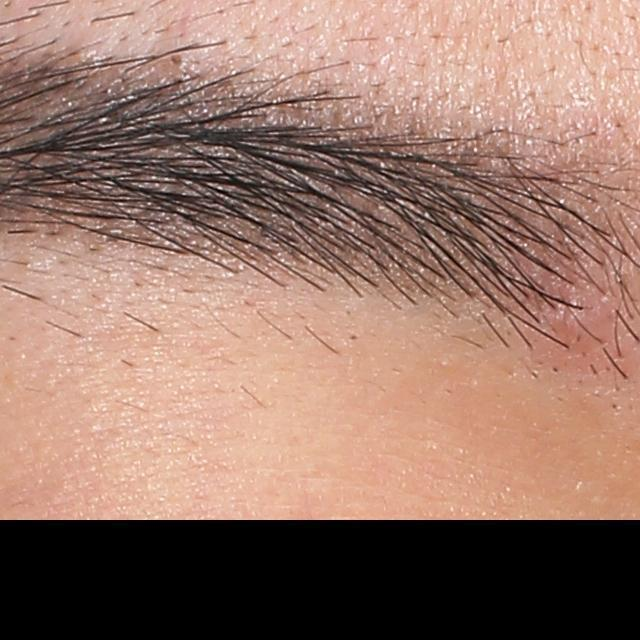comedo: (158, 45, 196, 76)
